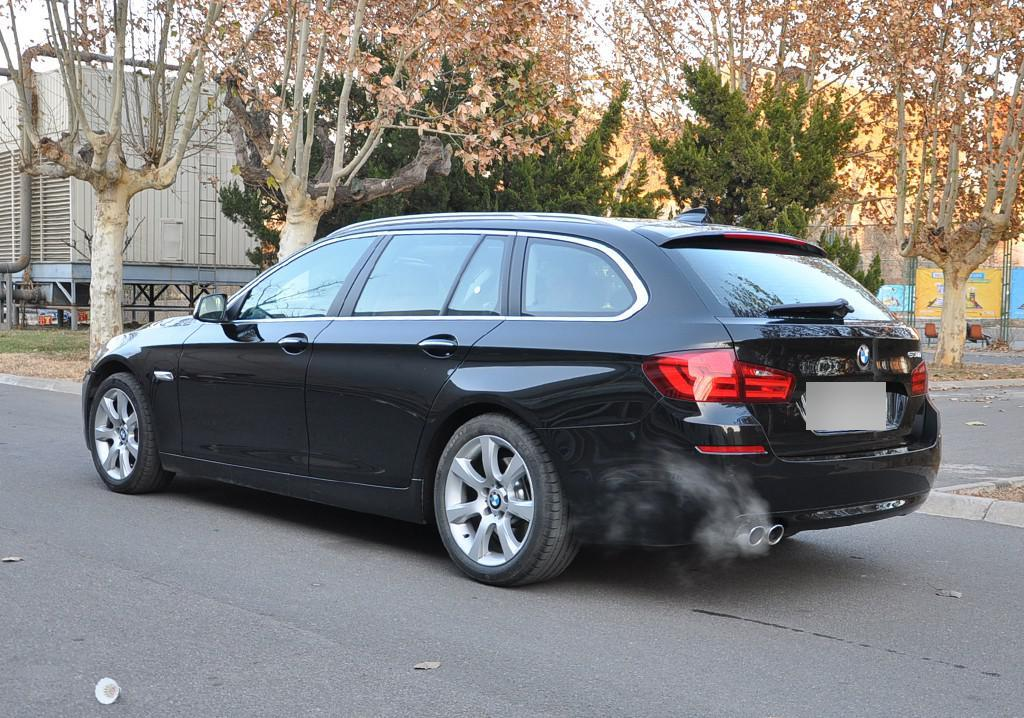Wagon: (80, 209, 944, 590)
